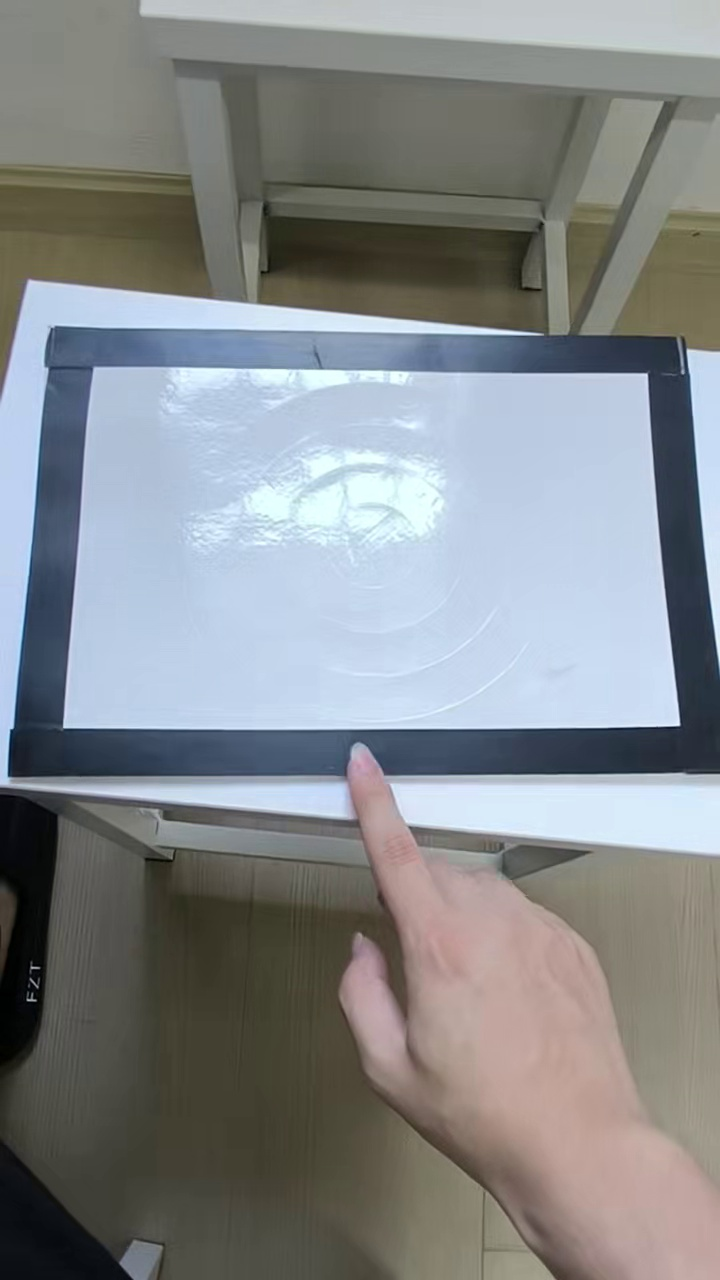board: (16, 330, 710, 778)
